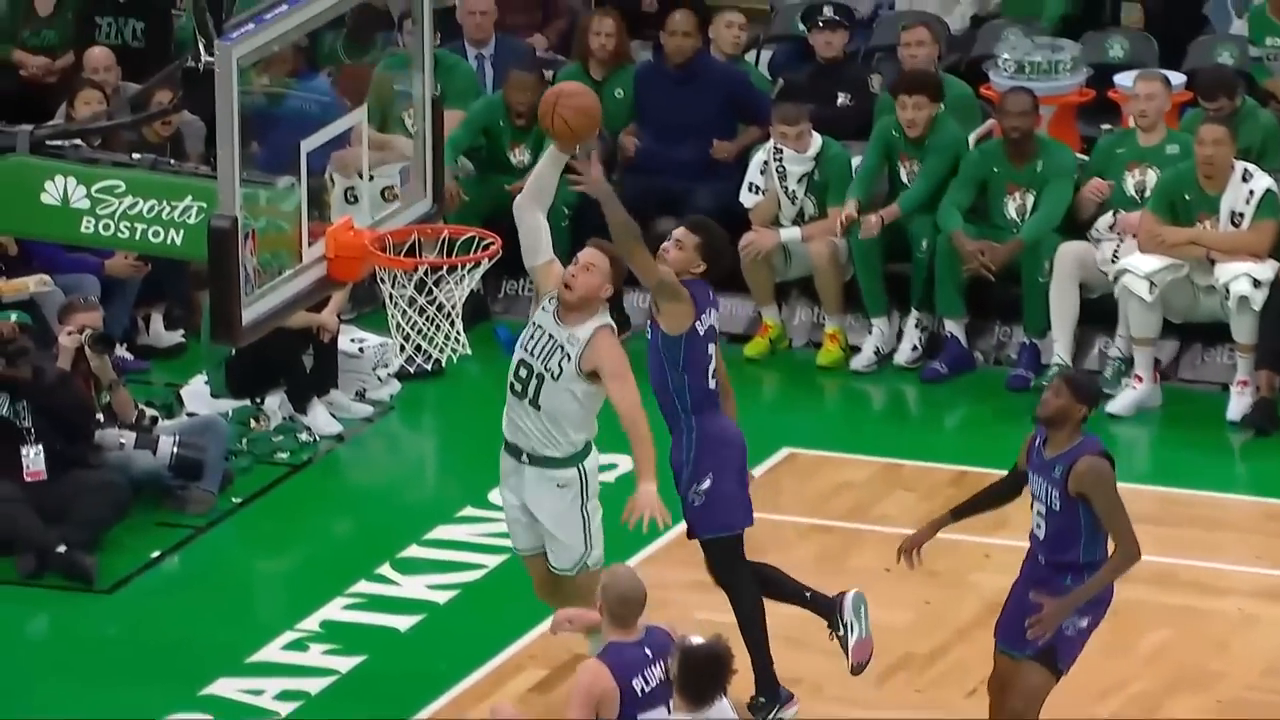ball: (533, 73, 610, 152)
net: (365, 215, 504, 375)
